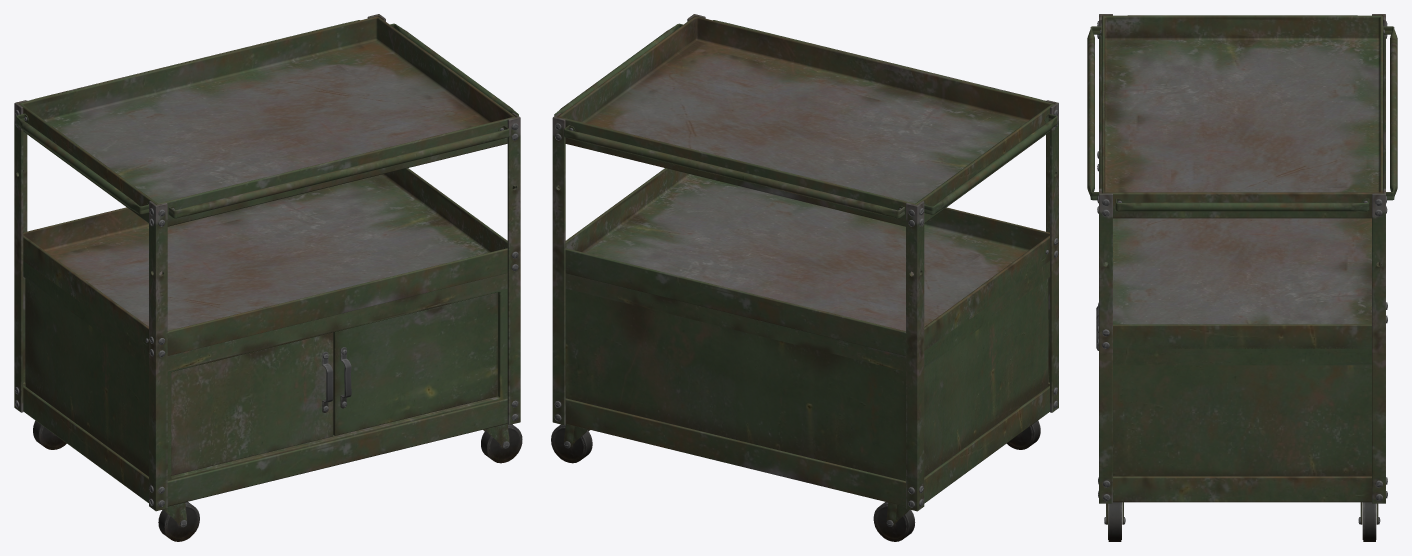
File: industrial_storage_cart.glb
The picture shows the model from 3 angles, left to right: view 1: azimuth 30°, elevation 25°; view 2: azimuth 150°, elevation 25°; view 3: azimuth 270°, elevation 25°; orthographic projection.
Visible parts, largest first — view 1: industrial_storage_cart; view 2: industrial_storage_cart; view 3: industrial_storage_cart.
Boxes of the visible parts, box(x1,y1,x2,y2) form: industrial_storage_cart: box(14, 14, 522, 541); industrial_storage_cart: box(551, 14, 1058, 541); industrial_storage_cart: box(1087, 14, 1397, 541).
Size of the model in its own units: 1.6 by 1.38 by 1.1.
1 material, 1 textured.
